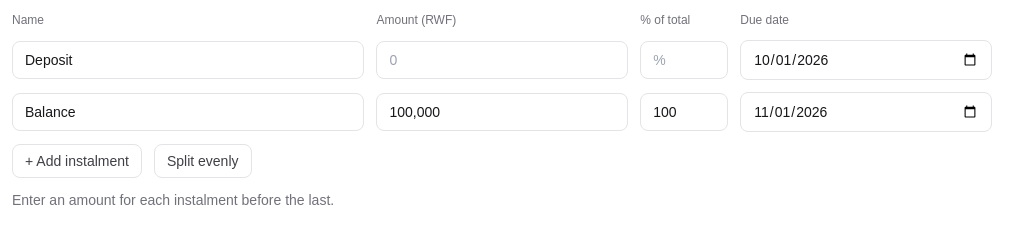
Test case: InstallmentsEditor › shows the deposit as typed and works out the balance as whatever is left
Type "40000" into the field named "Amount for instalment 1" at (502,60), box [376,41,628,79]
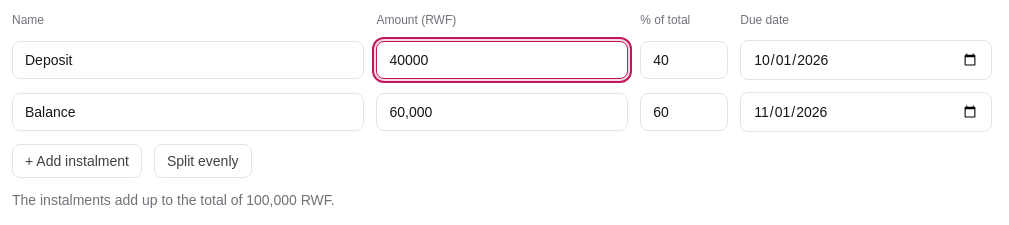
Now the field named "Amount for instalment 2" holds "60,000", box [376,93,628,131]
Now the text "The instalments add up to the total of 100,000 RWF." is shown, box [12,192,335,208]
